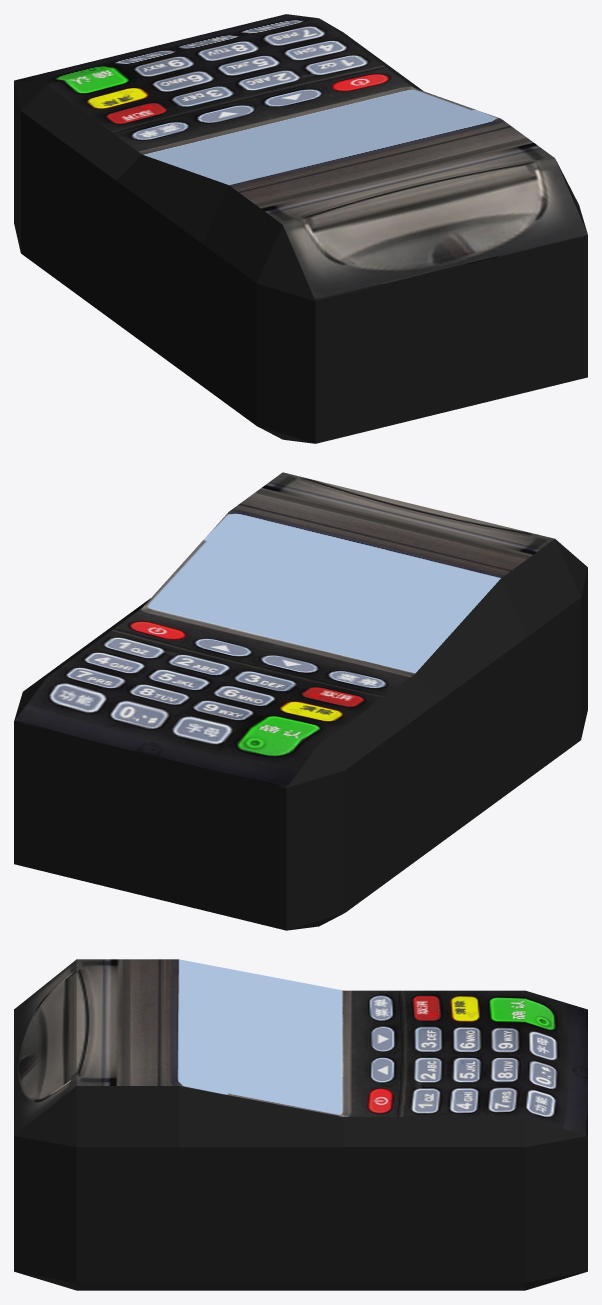
Rendered from poscihazı.fbx.
3 renders of one model, top to bottom at view 1: azimuth 30°, elevation 25°; view 2: azimuth 150°, elevation 25°; view 3: azimuth 270°, elevation 25°, orthographic. The views are drawn at different scales.
Parts seen in each view (by area): view 1: Cube; view 2: Cube; view 3: Cube.
Part boxes in pixels (<box>): Cube: <box>14,14,587,443</box>; Cube: <box>14,472,587,930</box>; Cube: <box>14,959,587,1290</box>.
Size of the model in its own units: 370 by 236 by 600.
